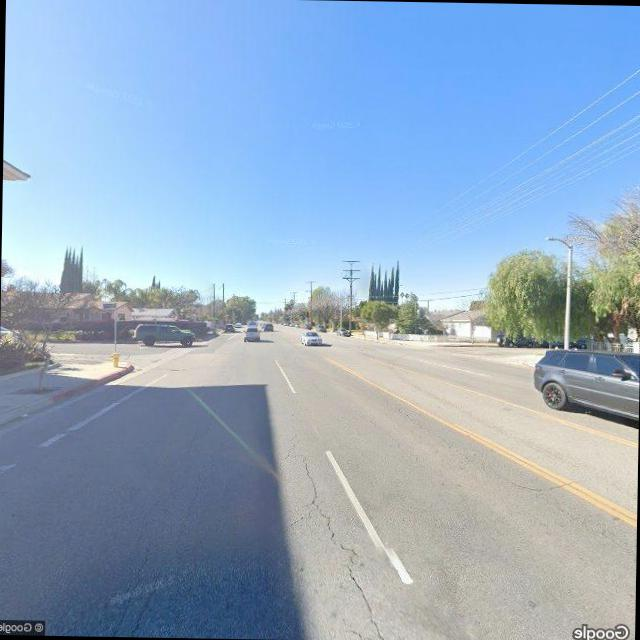pothole: (284, 440, 411, 640), (461, 454, 590, 502), (116, 524, 160, 632), (130, 574, 162, 636)
